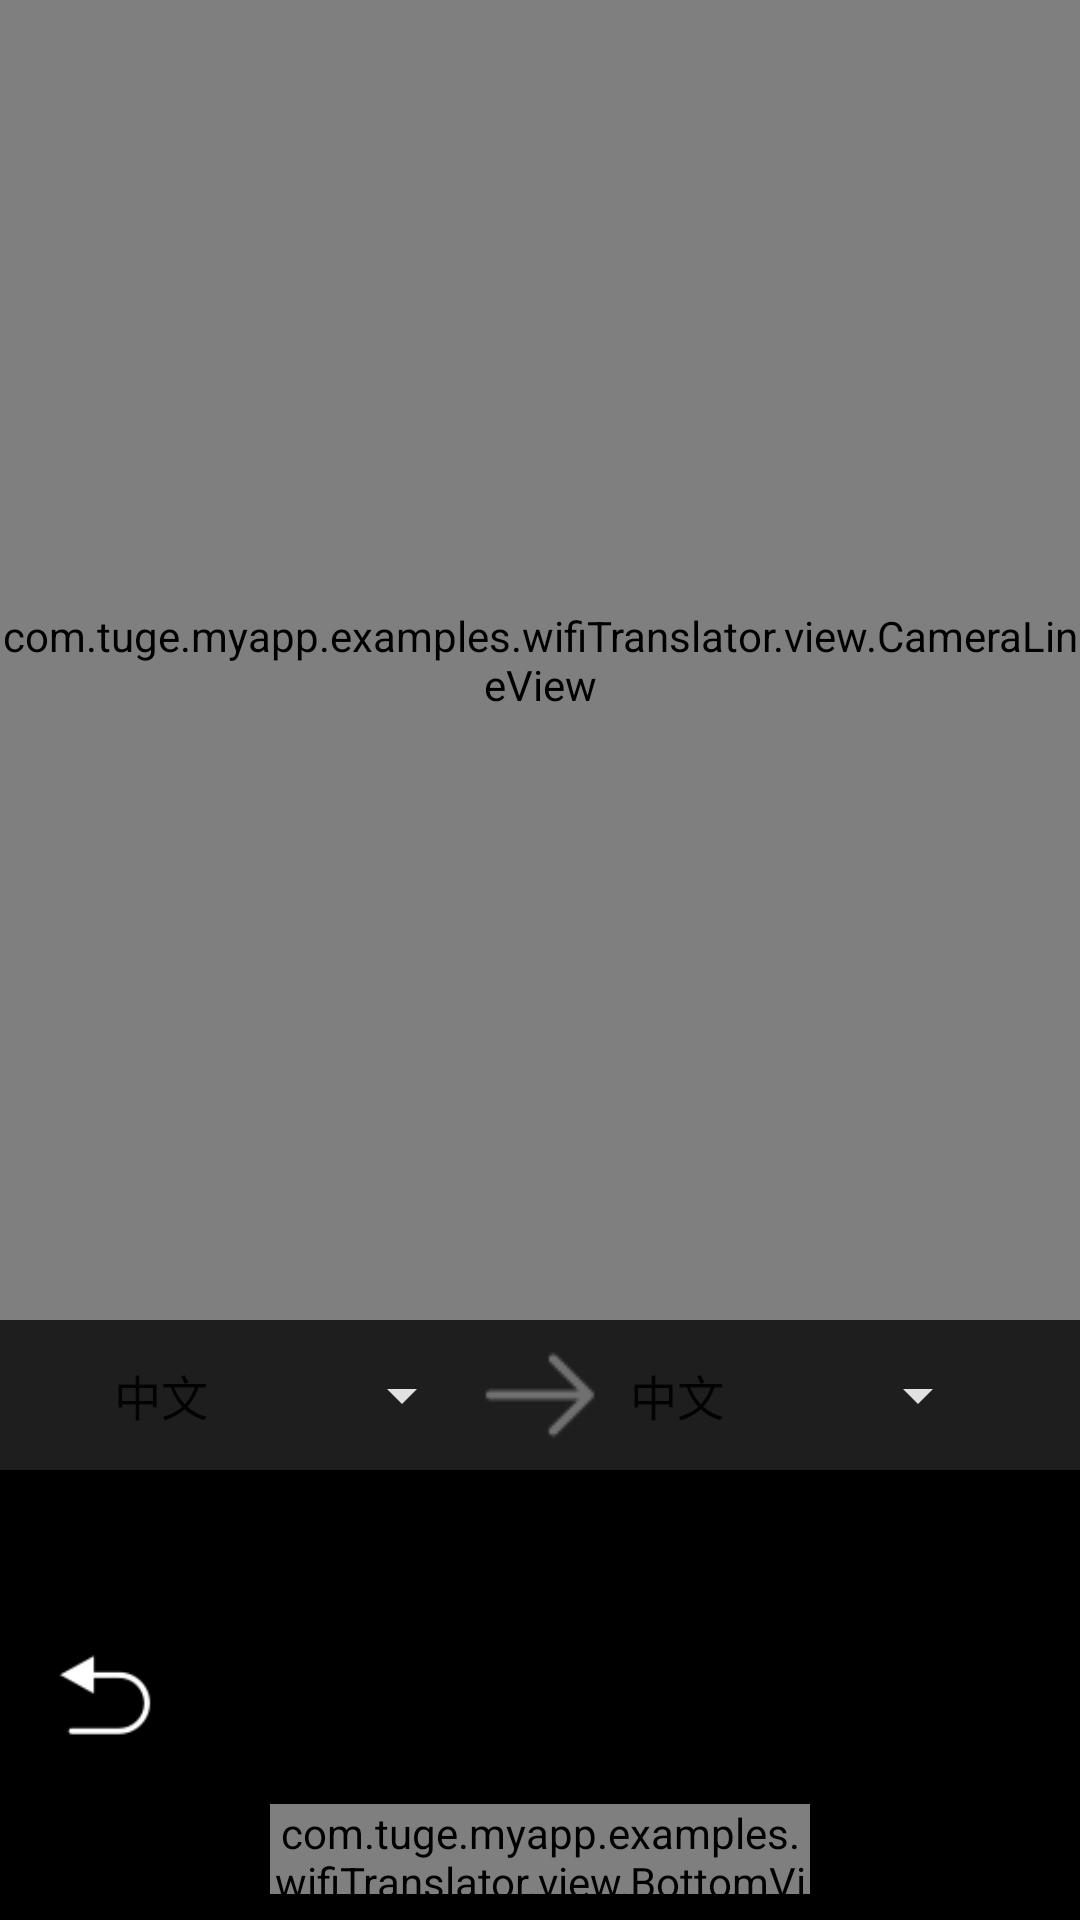

Point at icon controls on the screen. Image size 1080*1920, points as [x,y].
arrow right: [539,1395]
back: [105,1695]
